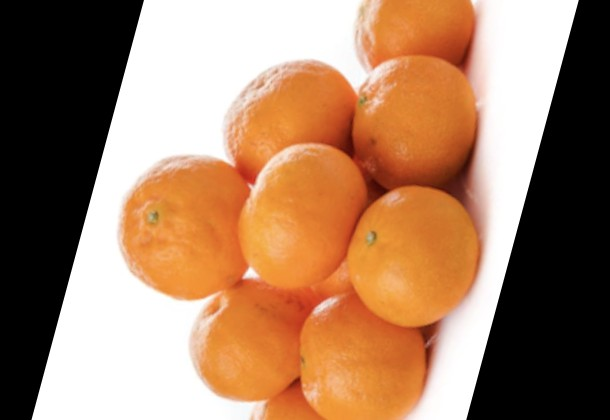fresh_orange: (116, 153, 257, 301), (346, 183, 482, 324), (241, 143, 368, 289), (226, 59, 360, 187), (354, 54, 478, 191), (300, 291, 431, 420), (189, 280, 307, 400), (352, 1, 479, 73)
